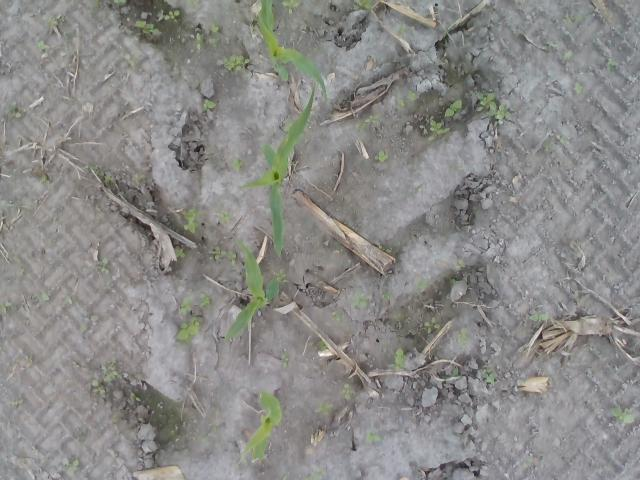Maize: (239, 88, 313, 260), (256, 0, 330, 102), (224, 239, 282, 340), (244, 391, 284, 461)
Weeds: (174, 287, 214, 345), (469, 88, 514, 126), (87, 358, 124, 400), (418, 115, 451, 144), (194, 20, 222, 50), (206, 242, 238, 264), (606, 402, 637, 424), (222, 53, 256, 72), (132, 18, 162, 37), (183, 206, 200, 234), (444, 96, 465, 118), (350, 286, 369, 308), (82, 162, 106, 178), (398, 90, 417, 110), (422, 316, 440, 336), (158, 8, 180, 24), (281, 0, 302, 16), (392, 348, 407, 370), (62, 456, 80, 474), (356, 114, 376, 130), (302, 468, 328, 480), (238, 448, 256, 465), (376, 241, 401, 253), (483, 364, 497, 385), (456, 326, 472, 344), (215, 208, 232, 224), (7, 106, 26, 120), (317, 401, 334, 416), (230, 157, 247, 172), (339, 382, 353, 400), (202, 98, 218, 113), (274, 268, 288, 285), (393, 24, 410, 38), (97, 256, 110, 274), (352, 0, 373, 11), (130, 174, 153, 184), (170, 425, 182, 443), (196, 433, 210, 448), (374, 148, 389, 162), (34, 40, 50, 53), (48, 15, 64, 28), (18, 355, 34, 368), (0, 302, 17, 314), (176, 26, 188, 43), (564, 15, 586, 24), (606, 56, 618, 72), (367, 431, 384, 442), (32, 290, 49, 301), (414, 278, 432, 288), (174, 246, 189, 258), (328, 310, 344, 321), (222, 0, 232, 17), (544, 38, 560, 48), (0, 199, 16, 209), (448, 278, 465, 287), (528, 312, 546, 320), (128, 54, 140, 66), (382, 291, 396, 301), (208, 424, 222, 434), (280, 351, 288, 368), (184, 0, 201, 8), (80, 320, 88, 337), (0, 224, 15, 233), (316, 339, 328, 350), (562, 50, 573, 61), (542, 142, 554, 152), (574, 82, 584, 94), (129, 392, 141, 402), (9, 399, 24, 407), (454, 258, 465, 268), (392, 310, 401, 322), (103, 174, 113, 184), (281, 123, 292, 132), (258, 48, 264, 64), (112, 0, 128, 6), (584, 343, 594, 352), (40, 175, 50, 184), (560, 134, 568, 145), (110, 414, 118, 424), (452, 366, 459, 376), (439, 26, 448, 32), (310, 47, 320, 52), (560, 346, 568, 352), (631, 351, 640, 356)
